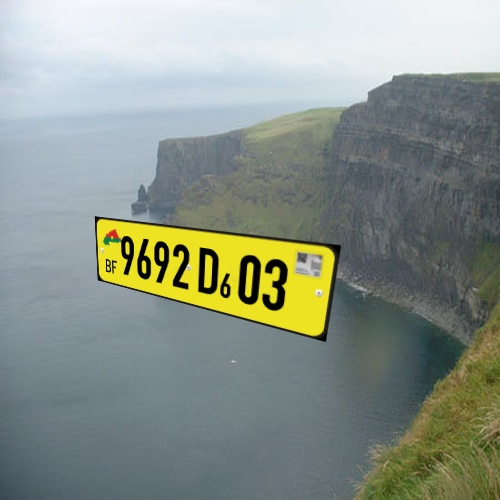plate: (85, 213, 365, 361)
